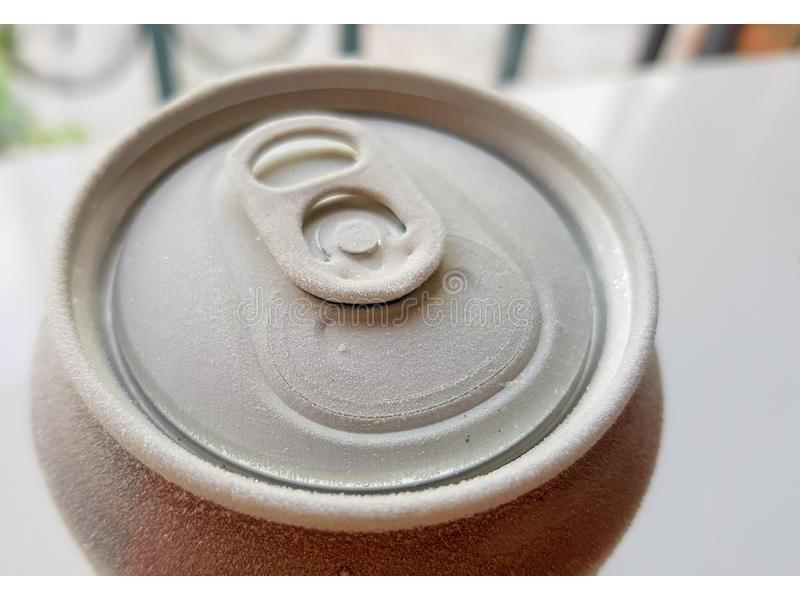can: (31, 51, 672, 575)
